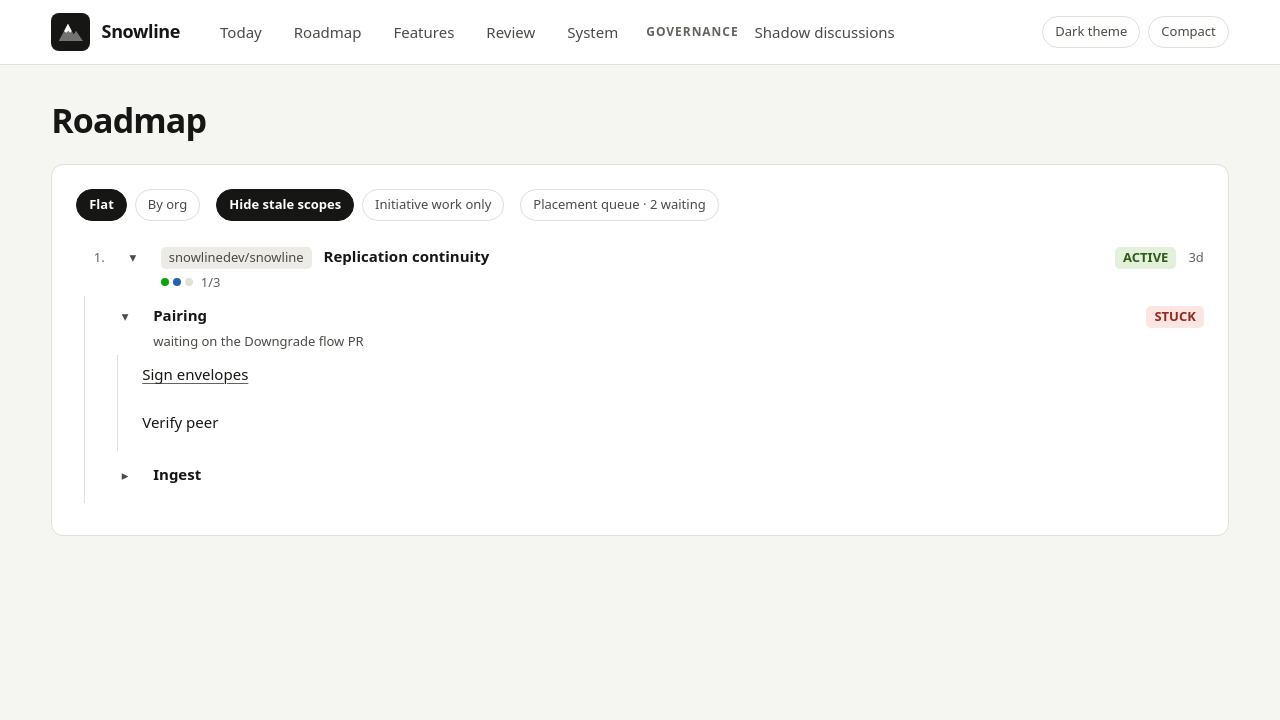
Test: board kind: facet toggle › un-hiding the stale facet reveals the filtered node without refetch
Expected: the text "Replication continuity" is shown, [324,246,489,266]
Click the button "Hide stale scopes" at (285, 205), box [216,189,354,221]
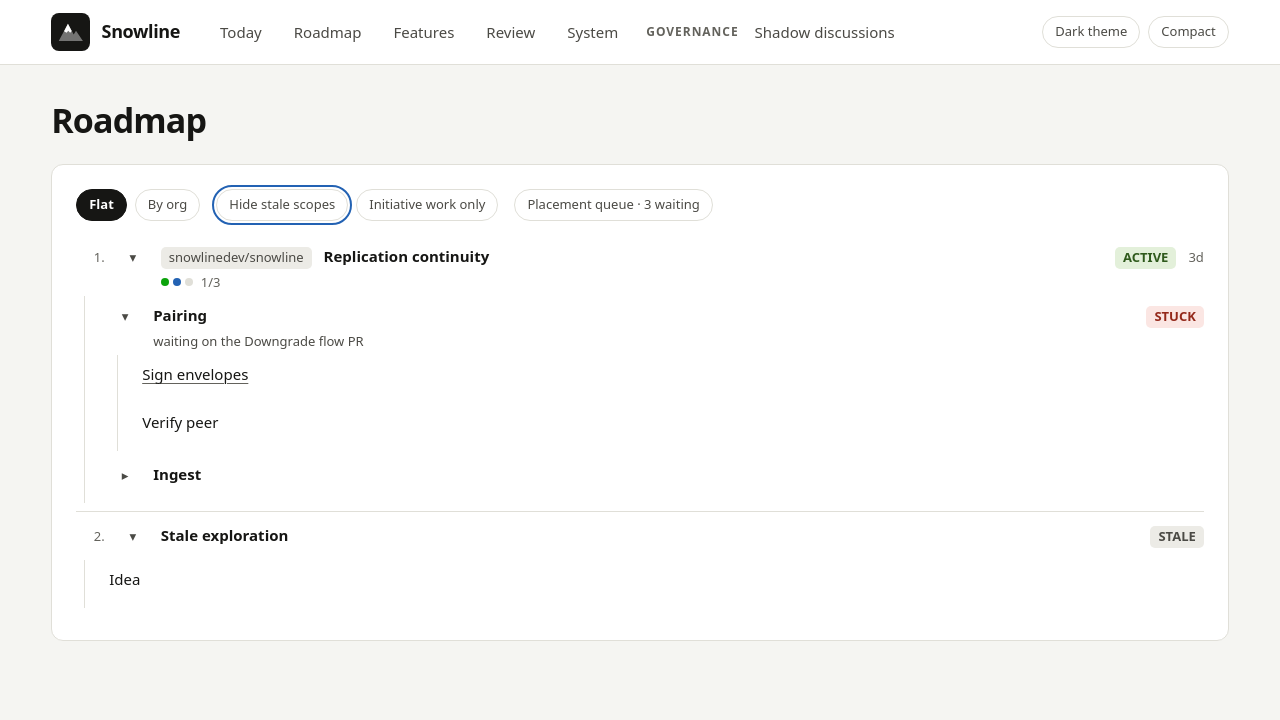
Now the text "Stale exploration" is shown, box [161,525,288,545]
